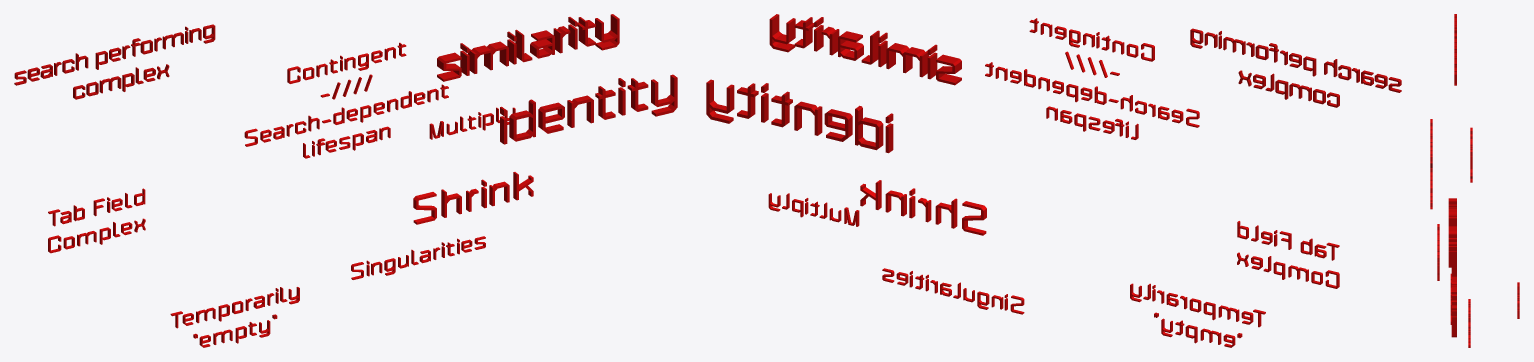
The model's file is HYPOTHESIS_4_BUZZWORDS_UPDATED.fbx.
3 views of the same model, side by side, from view 1: azimuth 30°, elevation 25°; view 2: azimuth 150°, elevation 25°; view 3: azimuth 270°, elevation 25° (orthographic). The views are drawn at different scales.
Parts seen in each view (by area): view 1: similarity, contingent, identity, search_performing_complex, temporarily_empty, Shrink, Tab_field_complex, singularities, Multiply; view 2: similarity, contingent, identity, search_performing_complex, temporarily_empty, Shrink, Tab_field_complex, singularities, Multiply; view 3: similarity, identity, contingent, search_performing_complex, temporarily_empty, Tab_field_complex, singularities, Multiply, Shrink.
Boxes of the visible parts, x1,y1,x2,y2 form: similarity: [437, 14, 619, 81]; contingent: [244, 42, 448, 158]; identity: [500, 74, 677, 144]; search_performing_complex: [14, 24, 215, 99]; temporarily_empty: [170, 287, 299, 347]; Shrink: [413, 172, 533, 224]; Tab_field_complex: [48, 188, 145, 253]; singularities: [351, 236, 485, 279]; Multiply: [429, 107, 515, 139]; similarity: [769, 14, 961, 85]; contingent: [985, 18, 1199, 139]; identity: [706, 79, 893, 153]; search_performing_complex: [1190, 28, 1401, 107]; temporarily_empty: [1130, 283, 1265, 347]; Shrink: [860, 180, 986, 235]; Tab_field_complex: [1237, 221, 1339, 288]; singularities: [882, 268, 1024, 314]; Multiply: [768, 193, 859, 226]; similarity: [1448, 198, 1456, 267]; identity: [1451, 267, 1456, 337]; contingent: [1430, 119, 1432, 209]; search_performing_complex: [1454, 14, 1456, 85]; temporarily_empty: [1437, 224, 1439, 280]; Tab_field_complex: [1470, 127, 1472, 182]; singularities: [1468, 299, 1470, 347]; Multiply: [1517, 282, 1519, 318]; Shrink: [1450, 273, 1451, 324].
Size of the model in its own units: 143 by 65.05 by 26.66.
